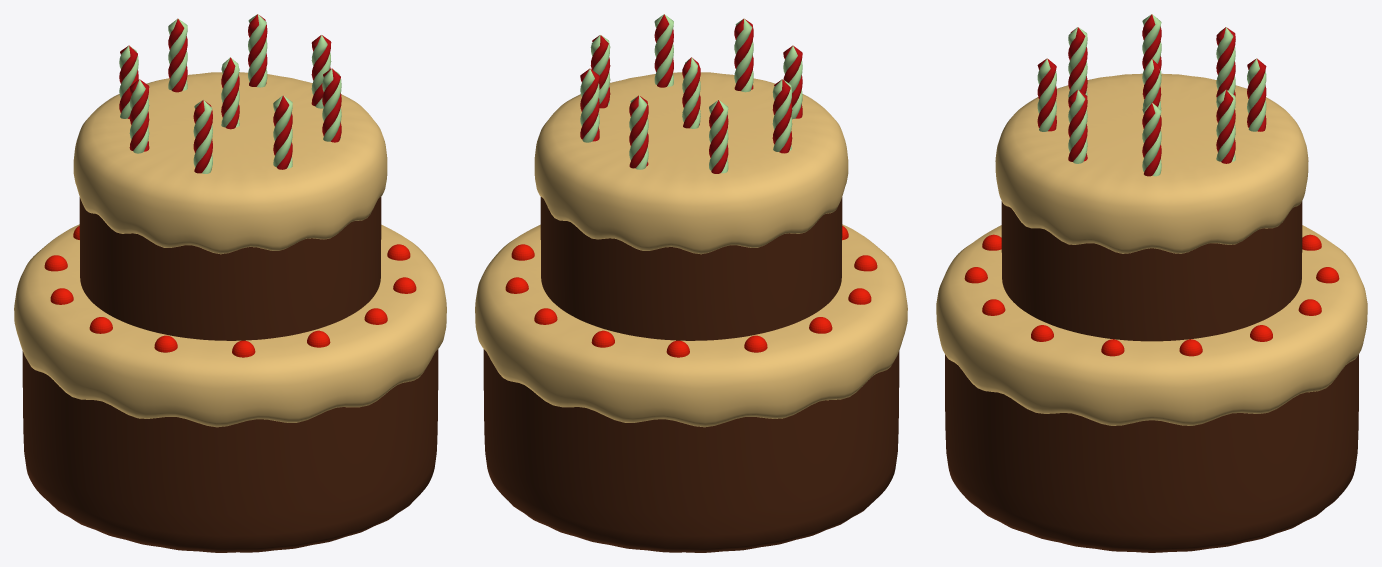
The model's file is cakeFIx.fbx.
The picture shows the model from 3 angles, left to right: view 1: azimuth 30°, elevation 25°; view 2: azimuth 150°, elevation 25°; view 3: azimuth 270°, elevation 25°; orthographic projection.
Visible parts, largest first — view 1: Cylinder, Cylinder.001, Cylinder.003, Cylinder.002, Circle.003, Sphere, Circle.001; view 2: Cylinder, Cylinder.001, Cylinder.003, Cylinder.002, Circle.003, Sphere, Circle.001; view 3: Cylinder, Cylinder.001, Cylinder.003, Cylinder.002, Circle.003, Sphere, Circle.001.
Boxes of the visible parts, left/top/right/bottom form: Cylinder: left=22, top=349, right=438, bottom=552; Cylinder.001: left=14, top=224, right=446, bottom=427; Cylinder.003: left=73, top=72, right=387, bottom=254; Cylinder.002: left=79, top=197, right=381, bottom=340; Circle.003: left=119, top=14, right=341, bottom=173; Sphere: left=44, top=226, right=416, bottom=357; Circle.001: left=221, top=57, right=239, bottom=129; Cylinder: left=483, top=349, right=899, bottom=552; Cylinder.001: left=475, top=224, right=907, bottom=427; Cylinder.003: left=534, top=72, right=848, bottom=254; Cylinder.002: left=540, top=197, right=842, bottom=340; Circle.003: left=580, top=14, right=802, bottom=173; Sphere: left=505, top=226, right=877, bottom=357; Circle.001: left=682, top=57, right=700, bottom=128; Cylinder: left=945, top=354, right=1358, bottom=552; Cylinder.001: left=936, top=225, right=1367, bottom=425; Cylinder.003: left=995, top=73, right=1308, bottom=253; Cylinder.002: left=1001, top=201, right=1302, bottom=341; Circle.003: left=1037, top=14, right=1266, bottom=176; Sphere: left=964, top=234, right=1339, bottom=356; Circle.001: left=1142, top=59, right=1161, bottom=109.
Bounding box in the file's own units: 481 × 509 × 481.
